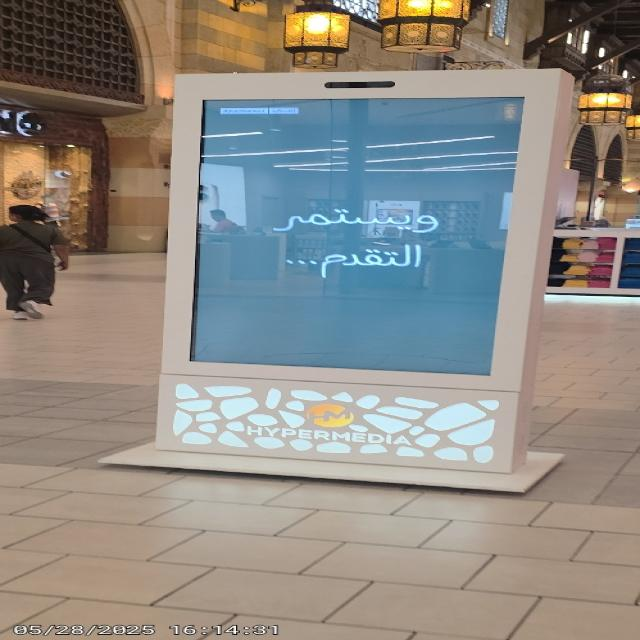mupi: (150, 70, 563, 471)
